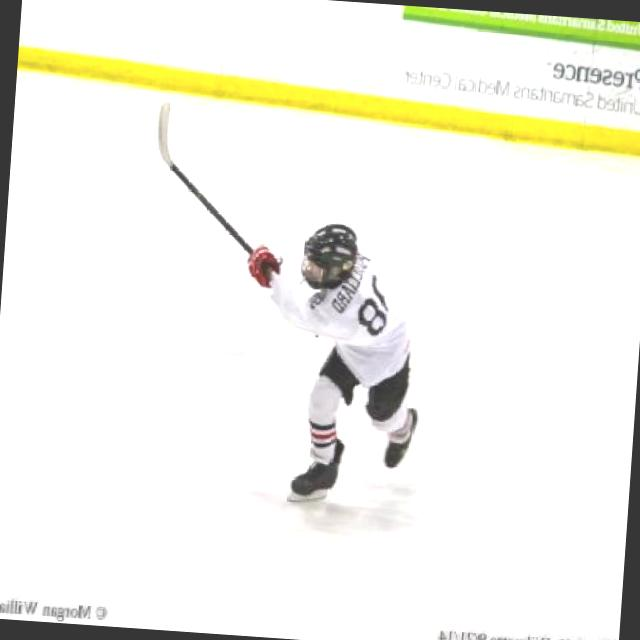Person: (226, 213, 436, 512)
